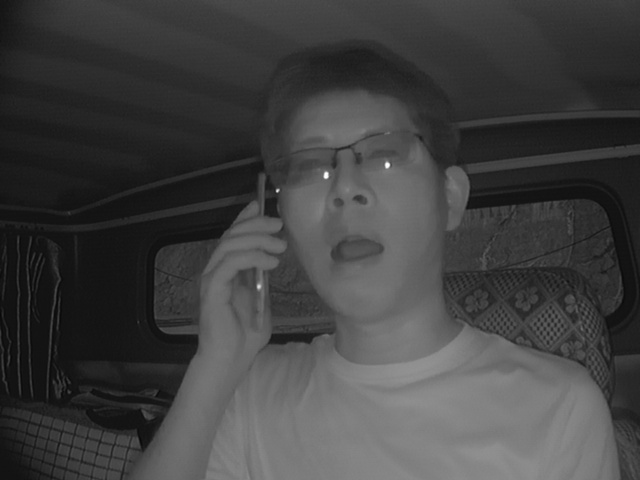hand: (187, 199, 287, 353)
